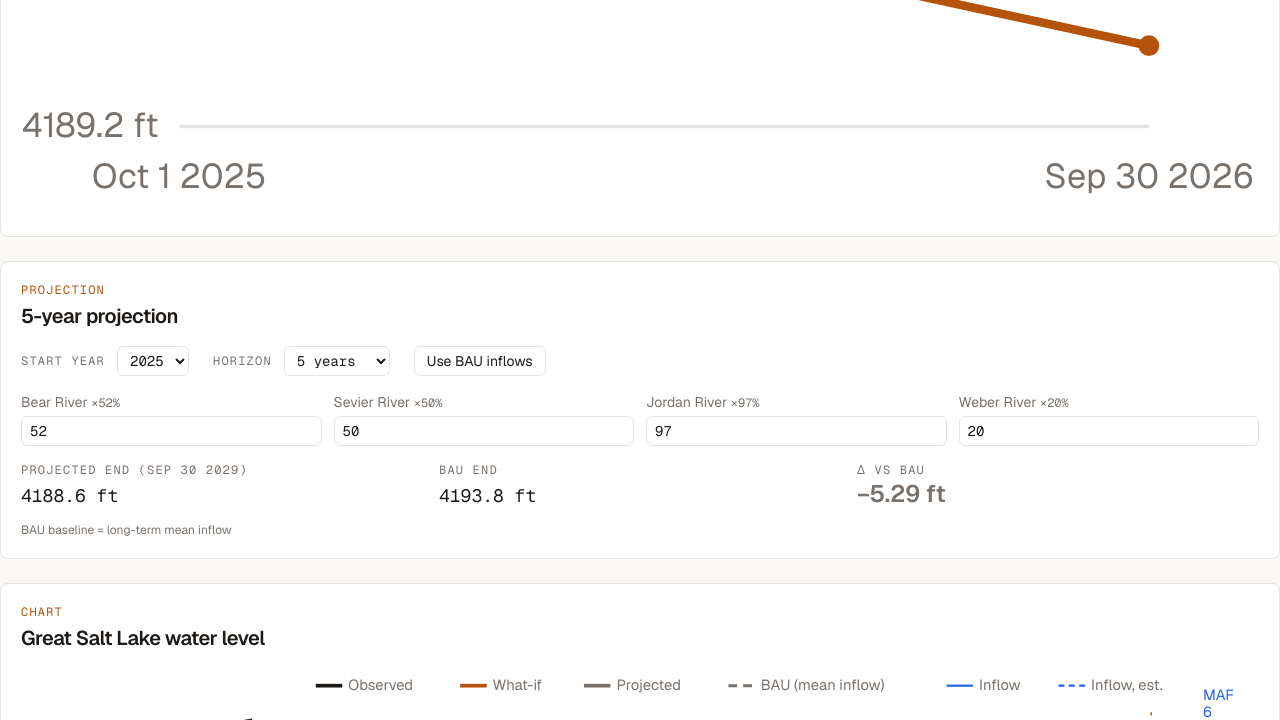
Test: WaterDashboard › changing the horizon re-runs the projection and updates the heading
(page scrolled)
Expected: the heading "5-year projection" is shown, [21,303,178,329]
Select "10 years" in the dropdown labelled "Horizon" at (337, 361), box [284,346,390,376]
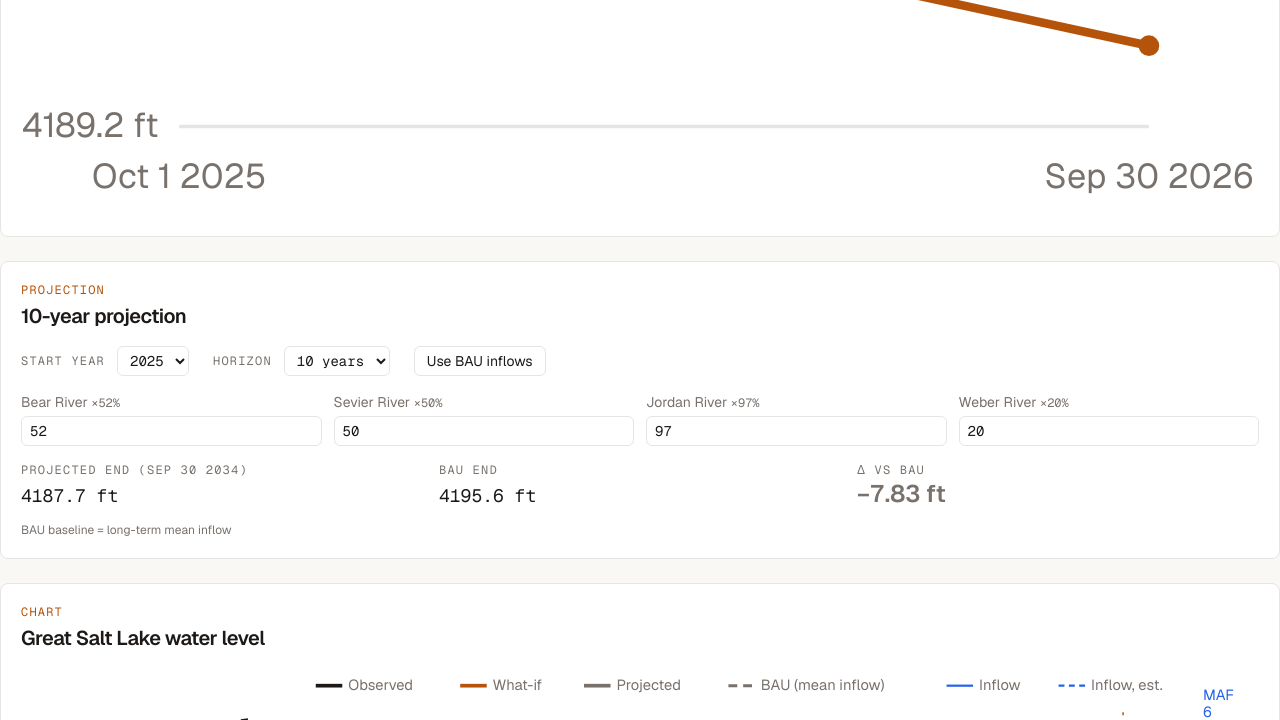
Now the heading "10-year projection" is shown, box [21,303,186,329]
Now the text "Projected end (Sep 30 2034)" is shown, box [21,462,248,478]
